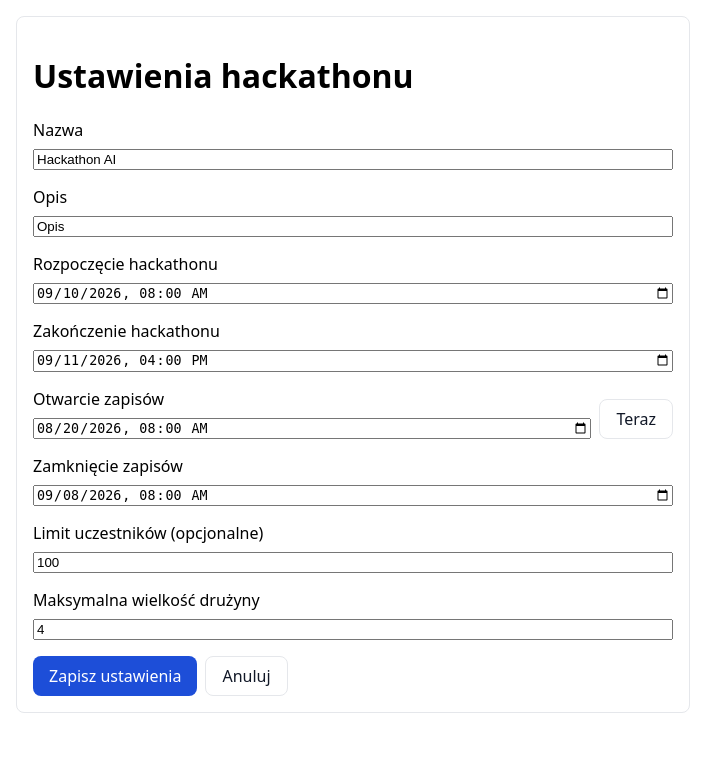
it: EditHackathonPage › validates settings before sending the update
The image size is (707, 760).
Step 1. Replace the text in the field labelled "Zakończenie hackathonu" with "2026-09-09T10:00" → (353, 361), box x1=33 y1=350 x2=673 y2=372
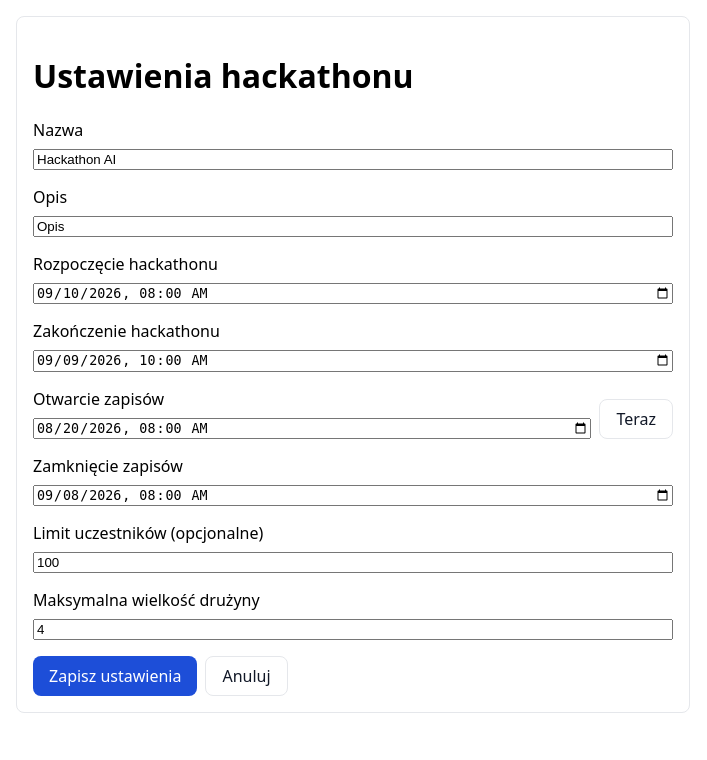
Step 2. Click the button "Zapisz ustawienia" → click(115, 676), box x1=33 y1=656 x2=198 y2=696
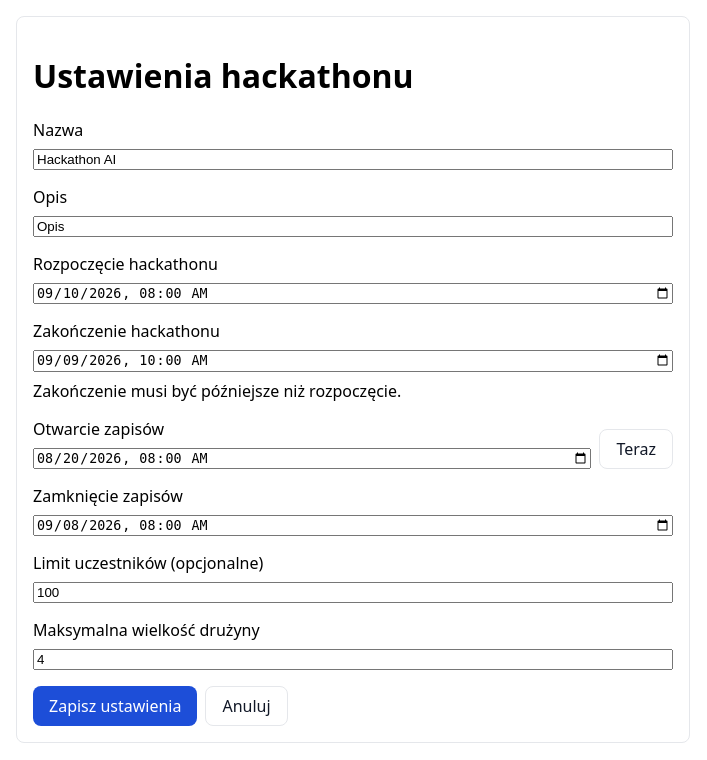
Now the text "Zakończenie musi być późniejsze niż rozpoczęcie." is shown, box x1=33 y1=380 x2=401 y2=402
